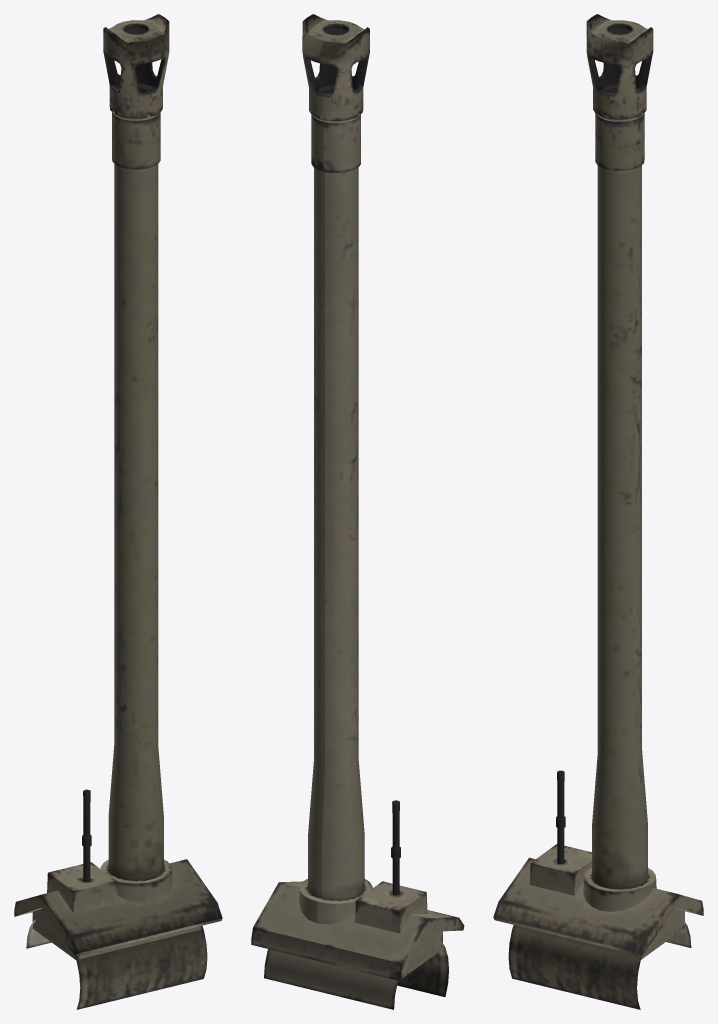
The model's file is Gun_06.glb.
3 views of the same model, side by side, from view 1: azimuth 30°, elevation 25°; view 2: azimuth 150°, elevation 25°; view 3: azimuth 330°, elevation 25° (orthographic). The views are drawn at different scales.
Visible parts, largest first — view 1: set_0_group_0; view 2: set_0_group_0; view 3: set_0_group_0.
Part boxes in pixels (<box>): set_0_group_0: <box>14,14,222,1009</box>; set_0_group_0: <box>251,14,464,1009</box>; set_0_group_0: <box>493,14,703,1009</box>.
Bounding box in the file's own units: 0.5168 × 3.21 × 0.3816.
Materials: 1 (1 with a texture image).
